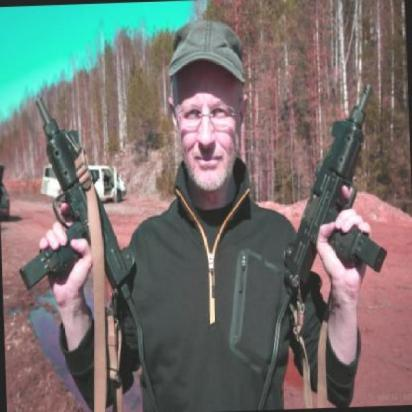Gun: (276, 80, 392, 308), (14, 93, 140, 298)
